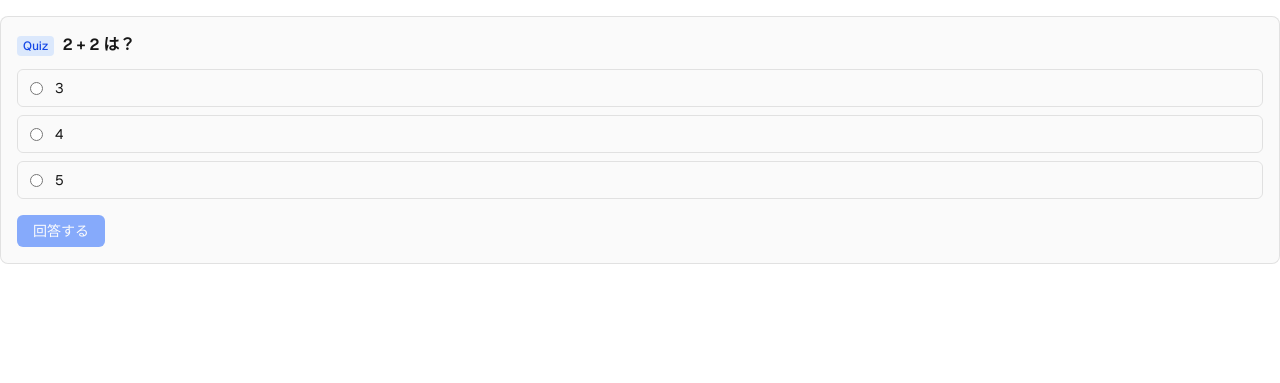
Scenario: <Quiz> 回答→即時採点→解説表示 › 単一選択で正解を選ぶと『正解！』と解説が出る
Expected: the text "正解！" is not shown
Expected: the text "2 + 2 = 4 です。" is not shown
Click the radio button labelled "4".
click(36, 134)  # box x1=30 y1=128 x2=43 y2=140
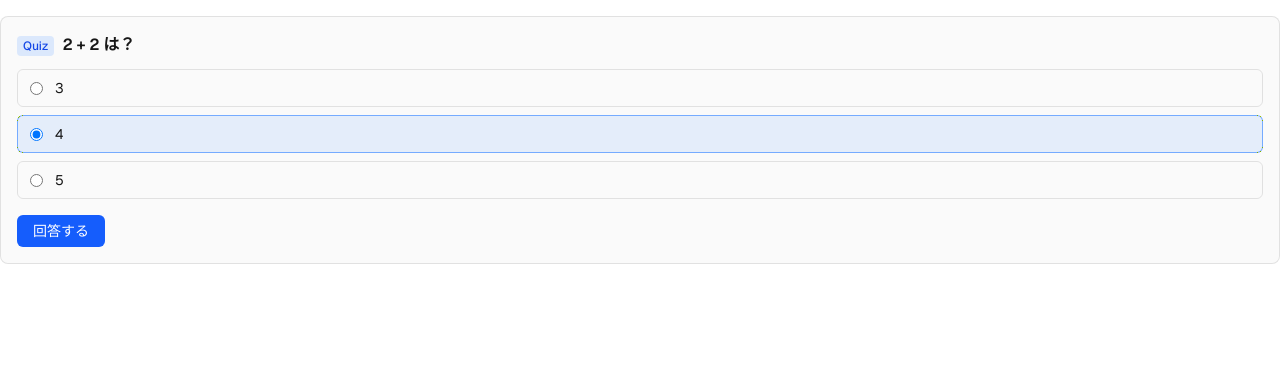
Click the button "回答する".
click(61, 231)  # box x1=17 y1=215 x2=105 y2=247
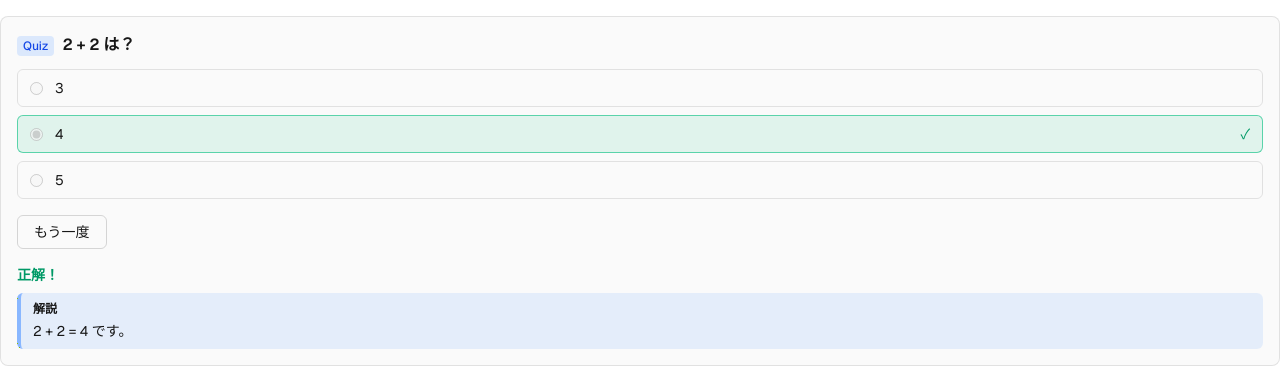
Expected: the text "正解！" is shown, x1=17 y1=266 x2=59 y2=284
Expected: the text "2 + 2 = 4 です。" is shown, x1=33 y1=322 x2=132 y2=340
Expected: the button "もう一度" is shown, x1=17 y1=215 x2=107 y2=249
